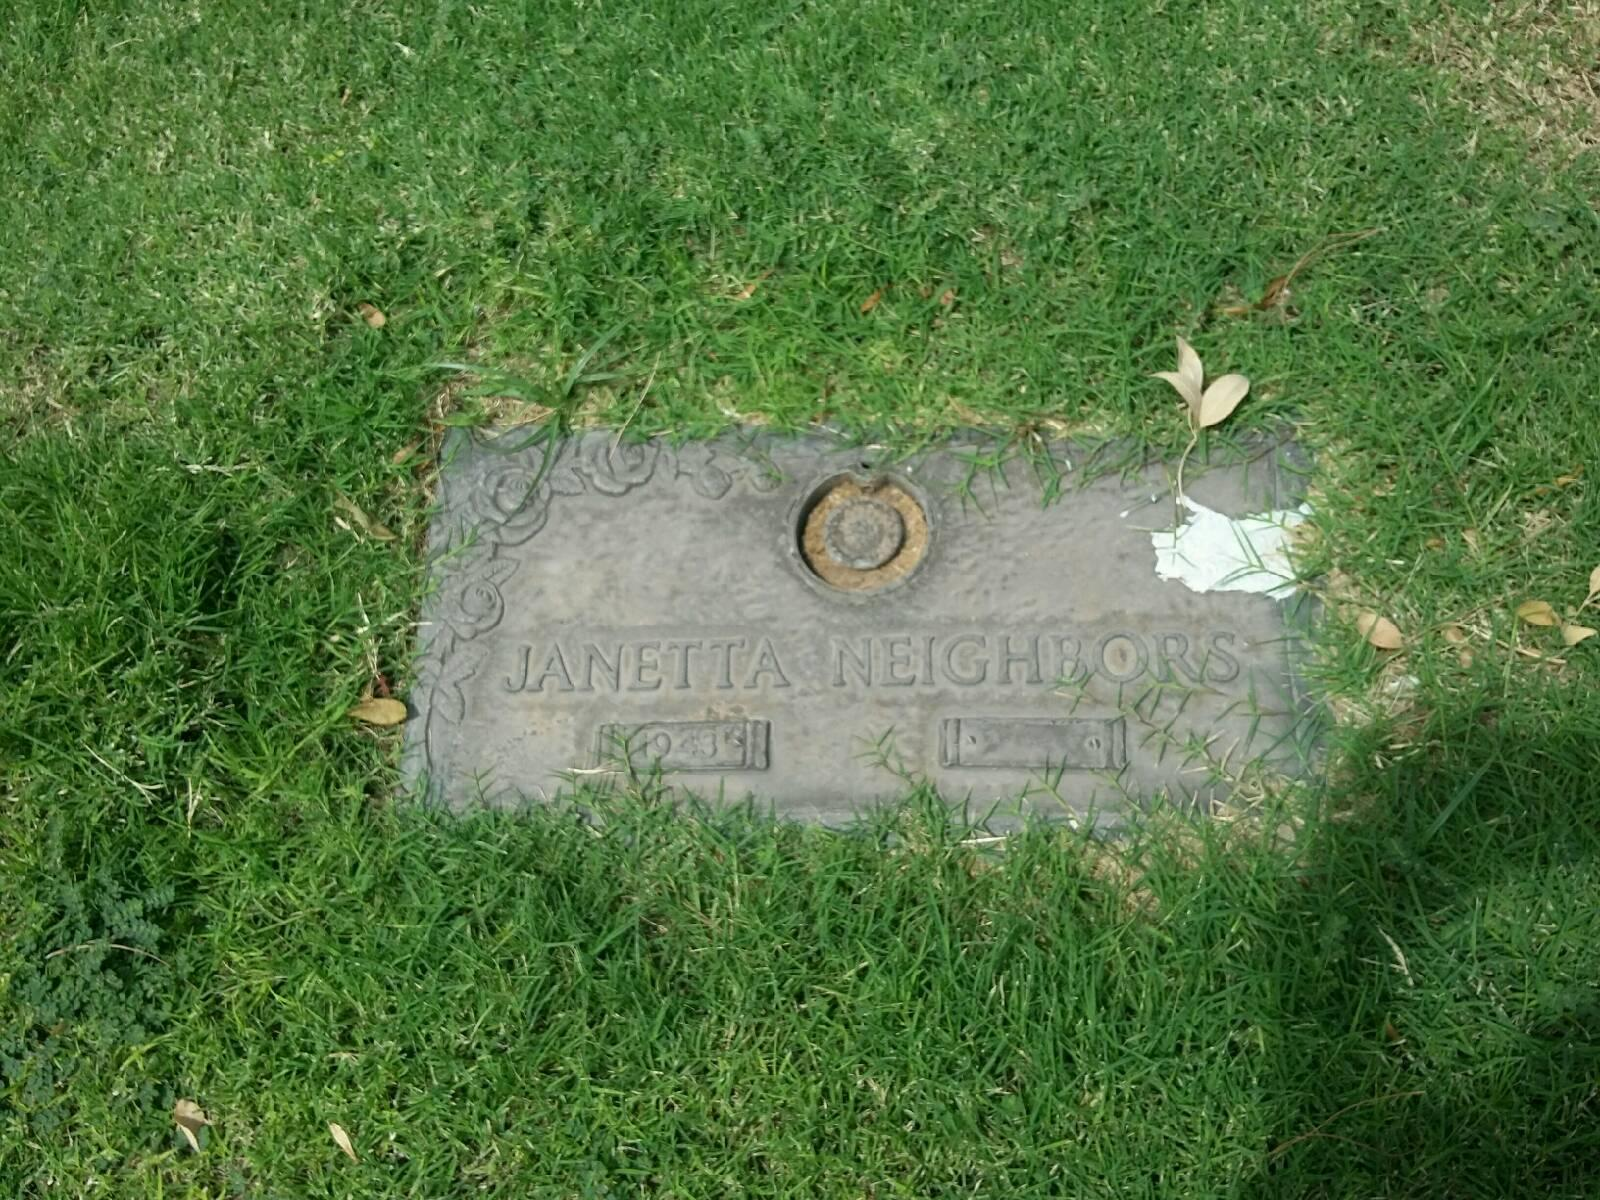flat: (392, 413, 1314, 845)
